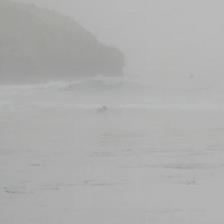surfer: (98, 105, 110, 111), (186, 73, 194, 79)
